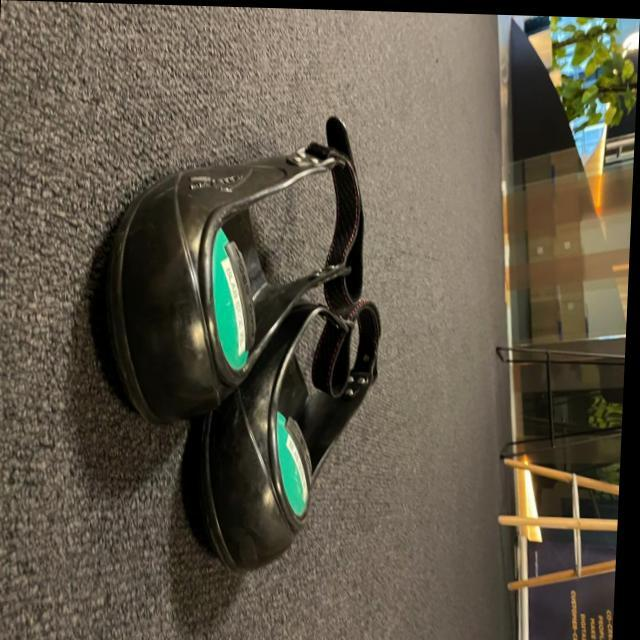shoes: (89, 110, 368, 421), (176, 300, 386, 563)
